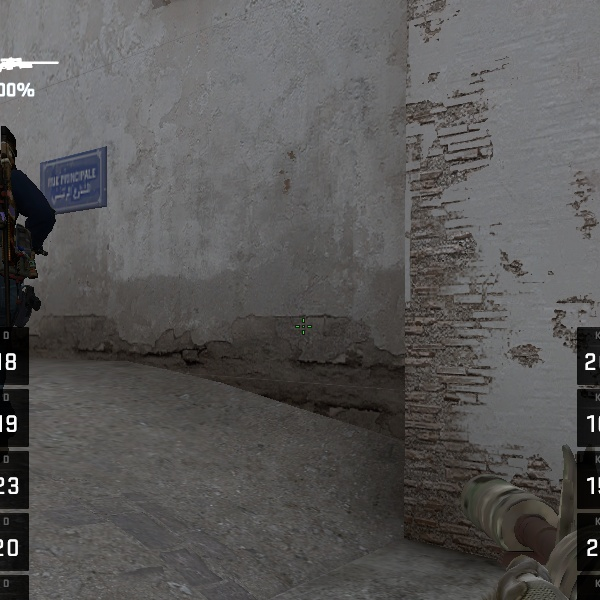ct_head: (1, 120, 21, 184)
